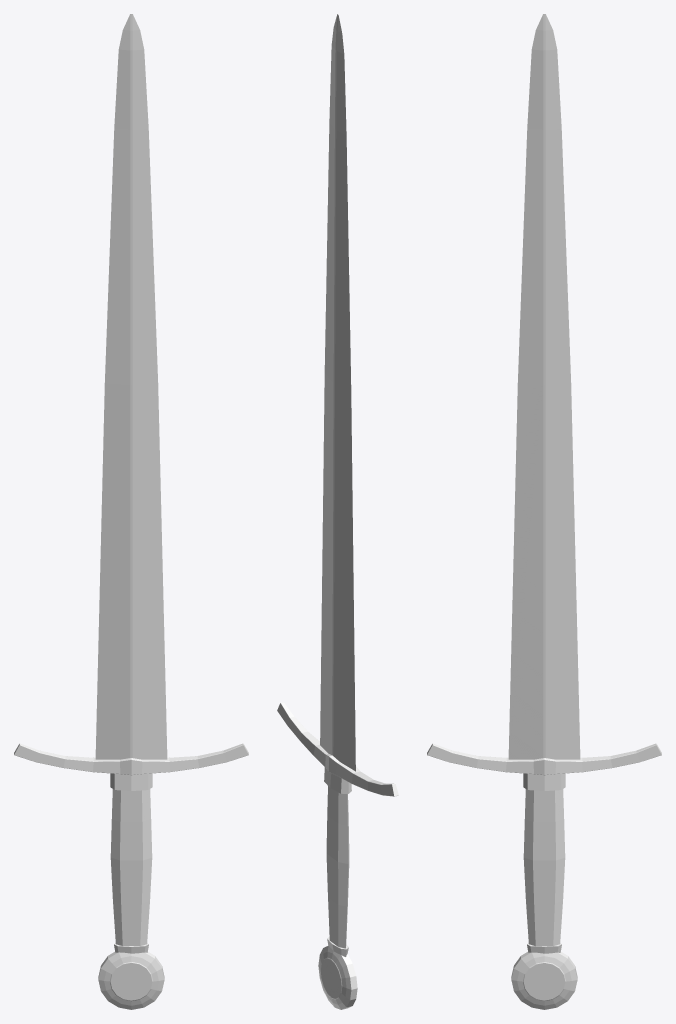
The model's file is kings_sword.glb.
3 views of the same model, side by side, from view 1: azimuth 90°, elevation 25°; view 2: azimuth 210°, elevation 25°; view 3: azimuth 270°, elevation 25° (orthographic).
Visible parts, largest first — view 1: Cylinder; view 2: Cylinder; view 3: Cylinder.
Boxes of the visible parts, x1,y1,x2,y2 form: Cylinder: [14, 14, 248, 1009]; Cylinder: [277, 14, 398, 1009]; Cylinder: [427, 14, 661, 1009].
Bounding box in the file's own units: 0.0187 × 0.9806 × 0.2098.
1 material, 1 textured.
